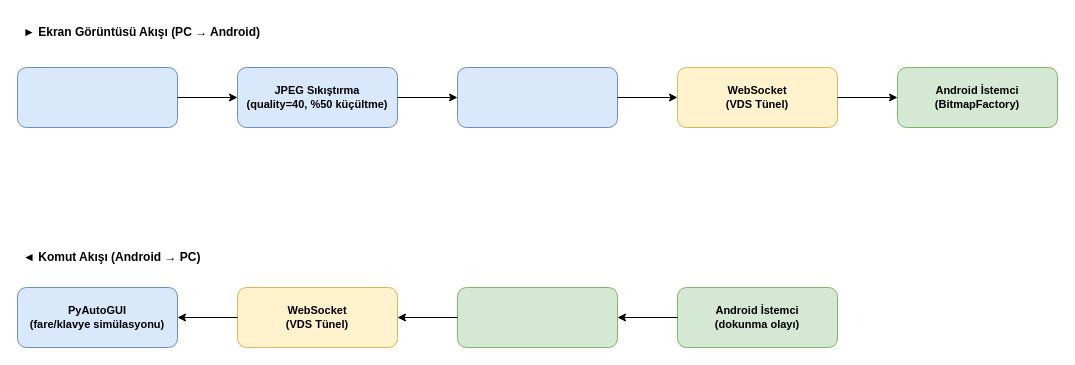
Some shapes in this 1075 by 365 pixel diagram are drawn without their labels. Here are the shapes that lost their labels. From the top down, the centre of each, then its label:
At (x=97, y=97): "Ekran Yakalama (ImageGrab.grab)".
At (x=537, y=97): "Base64 Kodlama".
At (x=537, y=317): "Komut Üretme (koordinat oransal dönüşüm)".
